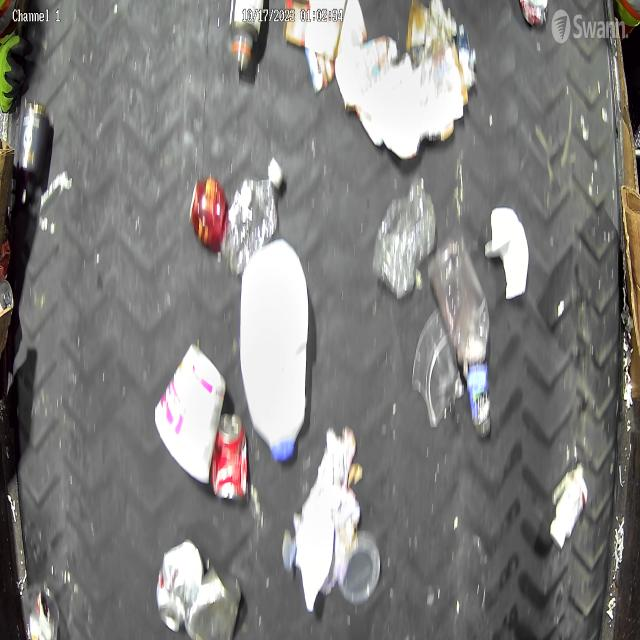can: (156, 539, 203, 633), (185, 567, 242, 640), (211, 411, 249, 503), (517, 1, 548, 28)
milk_jug: (242, 243, 310, 467)
plastic_bottle: (432, 235, 490, 418), (373, 180, 435, 302), (222, 160, 283, 280)
